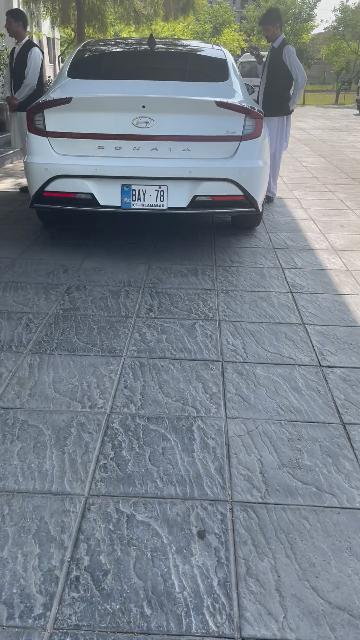plate: (120, 184, 168, 211)
